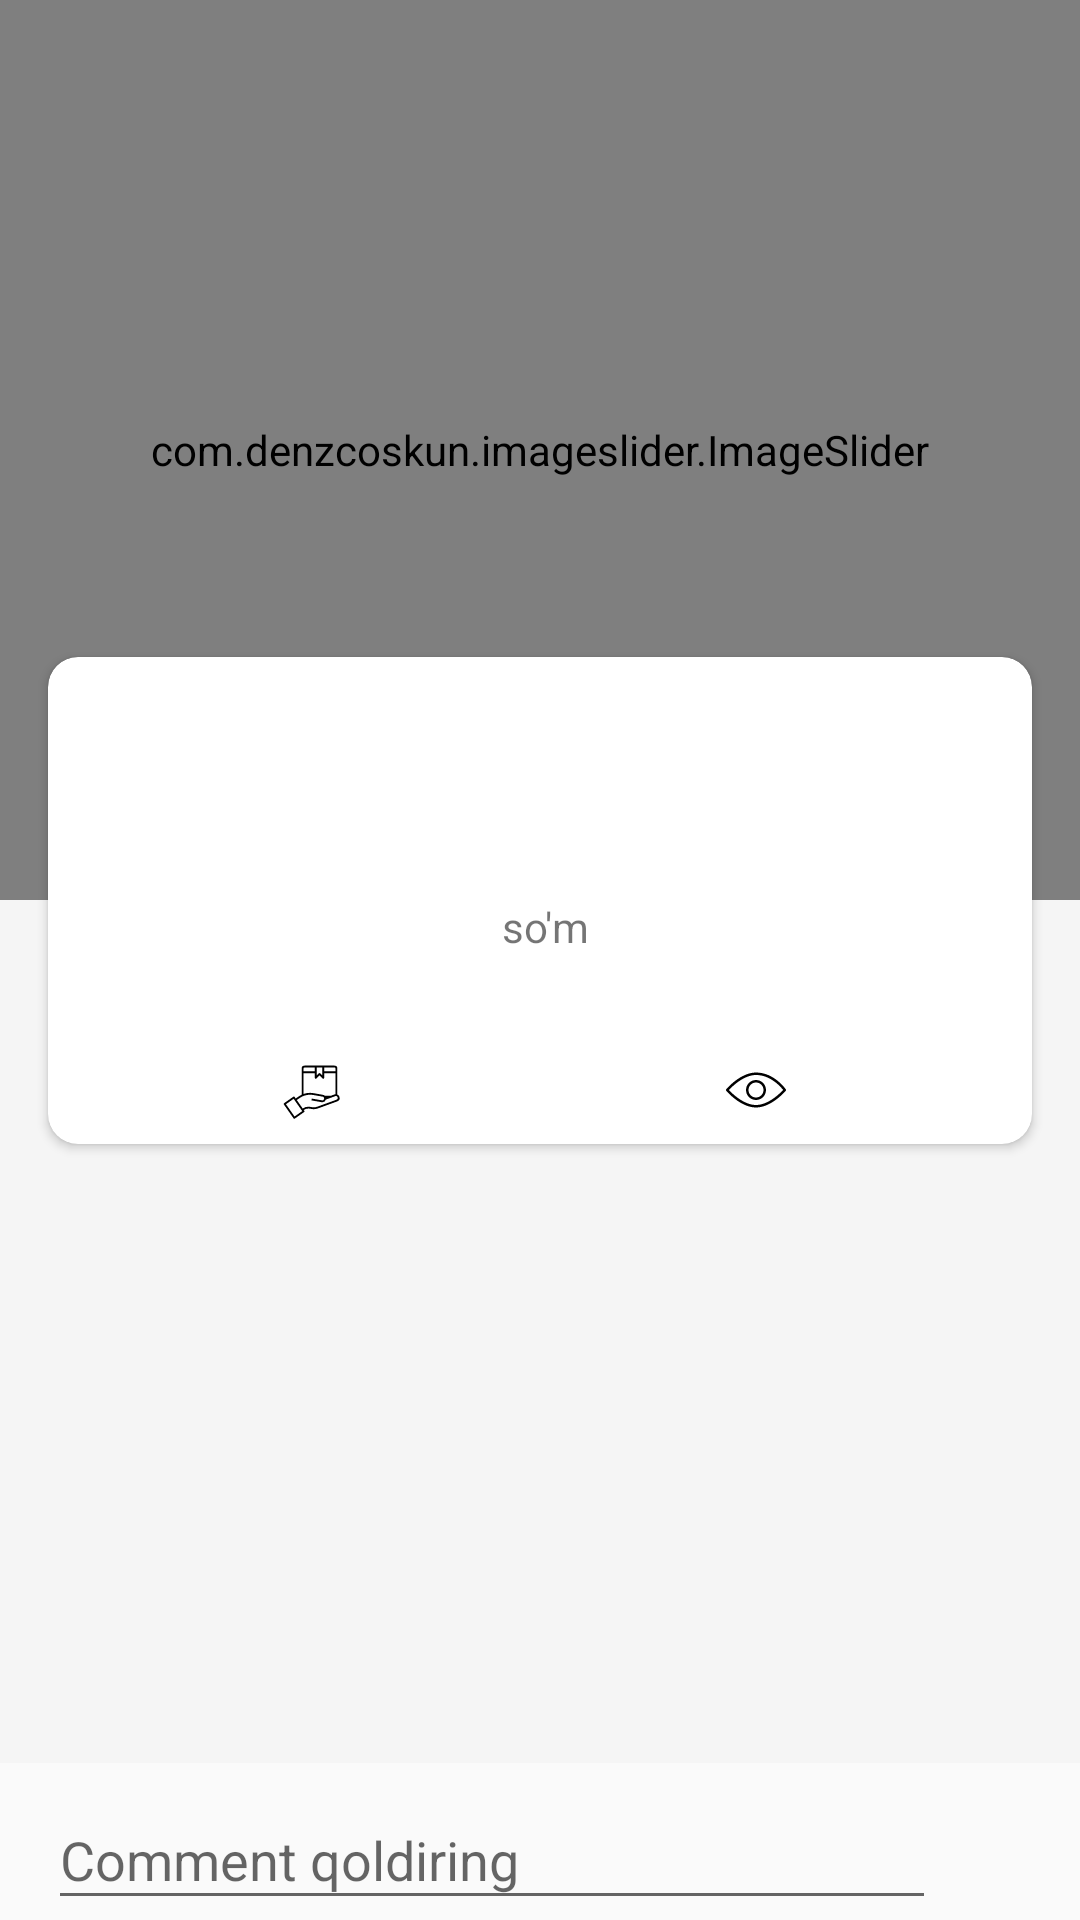

Screen size 1080w x 1920h. Icon name, then its box in pixels as bbox(x1, y1, x2, y2):
eye: bbox(726, 1072, 786, 1108)
product available: bbox(283, 1065, 340, 1119)
